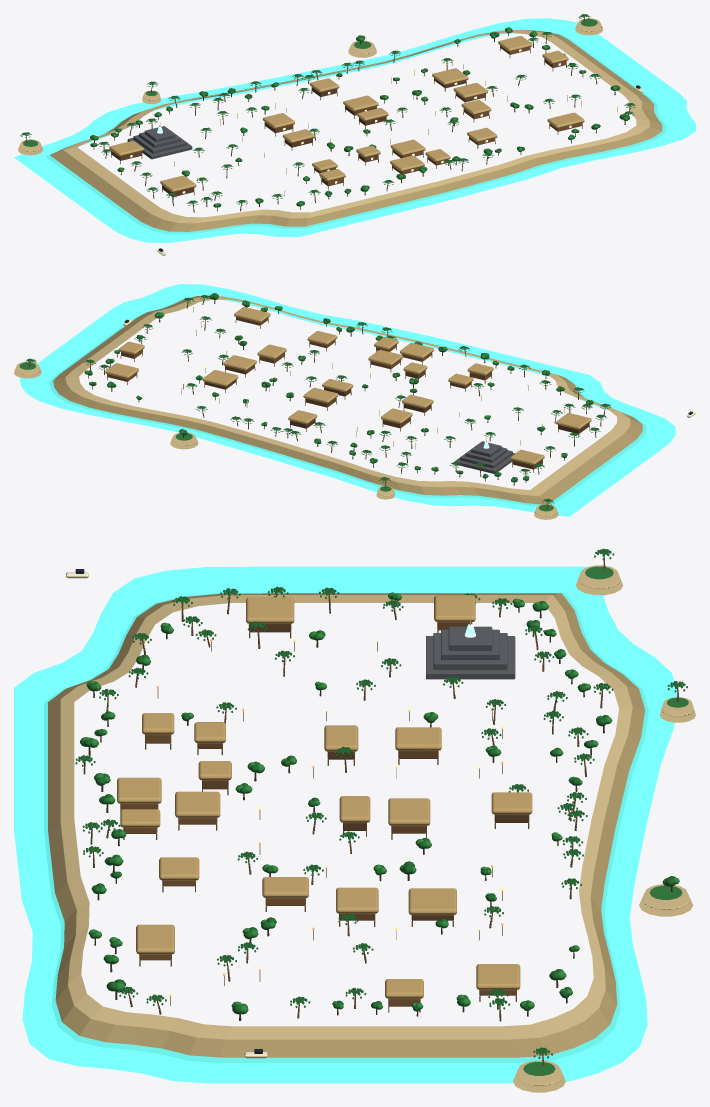
Rendered from by_jungle.glb.
The picture shows the model from 3 angles, top to bottom: view 1: azimuth 30°, elevation 25°; view 2: azimuth 150°, elevation 25°; view 3: azimuth 270°, elevation 25°; orthographic projection. The views are drawn at different scales.
Visible parts, largest first — view 1: Lavt vand_net, Stranden_net, Byen_net, Palmer_net, Holme_net, Templet_net; view 2: Lavt vand_net, Stranden_net, Byen_net, Palmer_net, Holme_net, Templet_net; view 3: Lavt vand_net, Stranden_net, Byen_net, Palmer_net, Holme_net, Templet_net.
Part boxes in pixels (x1,y1,x2,y2): Lavt vand_net: (14,18,695,242); Stranden_net: (49,29,665,232); Byen_net: (109,36,584,199); Palmer_net: (90,27,635,212); Holme_net: (18,18,603,155); Templet_net: (127,122,192,159); Lavt vand_net: (19,284,675,516); Stranden_net: (52,296,645,505); Byen_net: (105,307,591,472); Palmer_net: (84,293,611,485); Holme_net: (14,361,558,519); Templet_net: (454,437,515,473); Lavt vand_net: (14,566,677,1083); Stranden_net: (44,593,645,1062); Byen_net: (117,595,532,1012); Palmer_net: (75,586,613,1021); Holme_net: (513,565,695,1092); Templet_net: (426,616,515,679).
Size of the model in its own units: 97.43 by 5.1 by 53.44.
